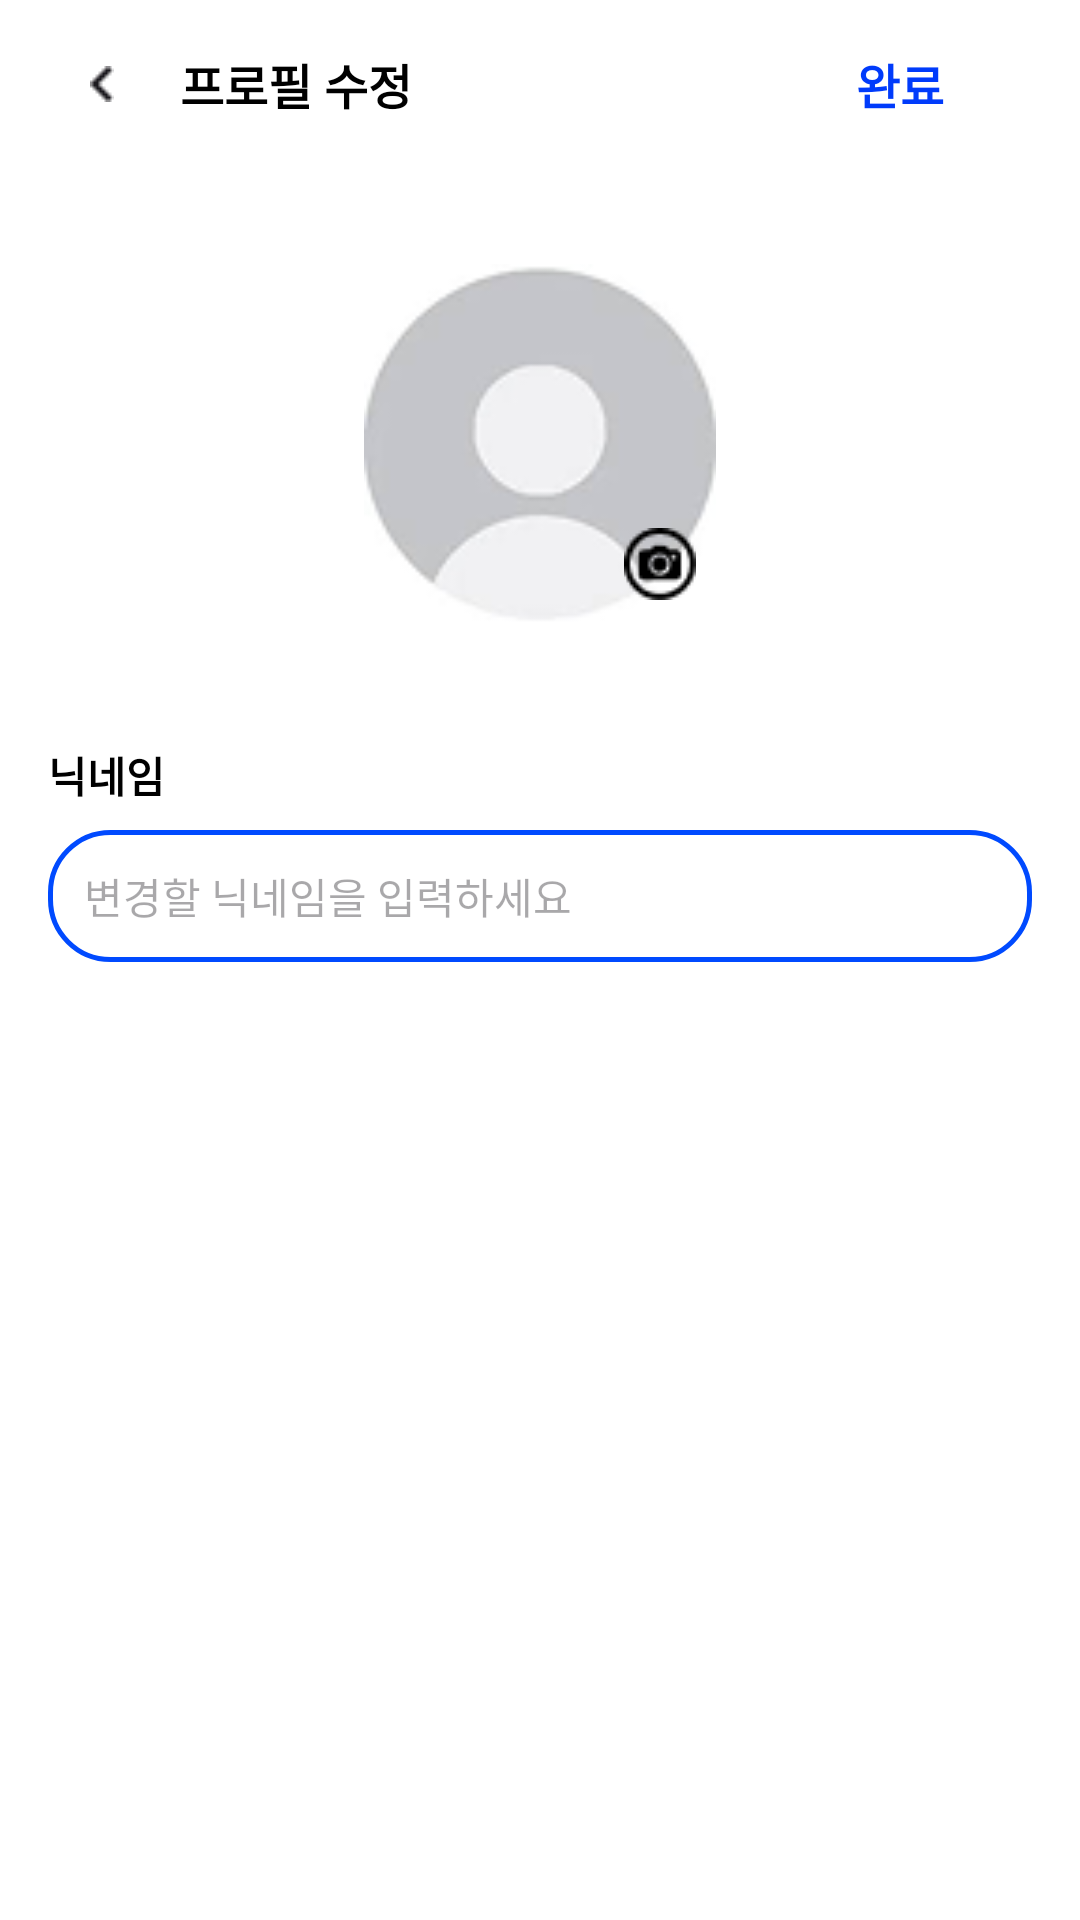

Icon click points for this 1080x1920 phone screenshot, format (x,y):
뒤로가기: (102,84)
